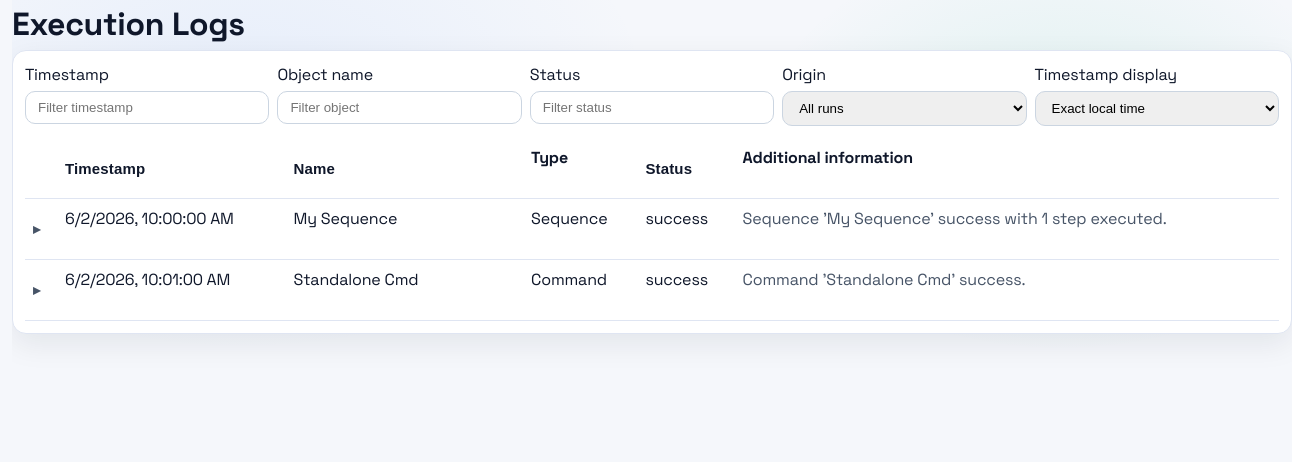
Test: ExecutionLogsPage grid › expands a command step to a second level only after the step is expanded
expect the text "My Sequence" is shown: met, box [286,199,523,260]
Click the button named "Expand sub-elements".
click(37, 229)  # box [33,207,40,251]
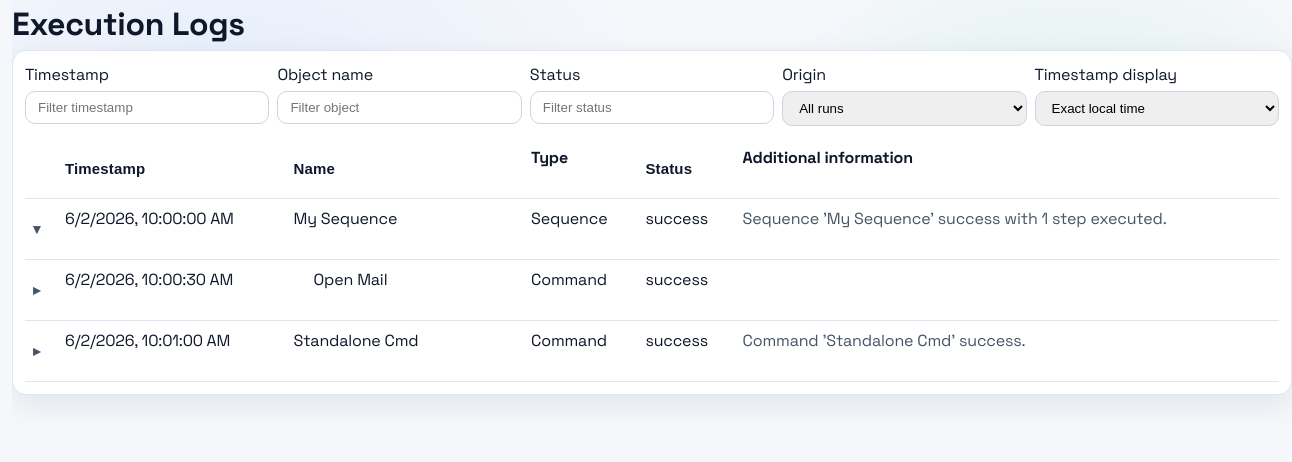
expect the text "Tap target" is not shown: met
expect the text "Open Mail" is shown: met, box [286,260,523,321]
Click the button named "Expand sub-elements".
click(37, 290)  # box [33,268,40,312]
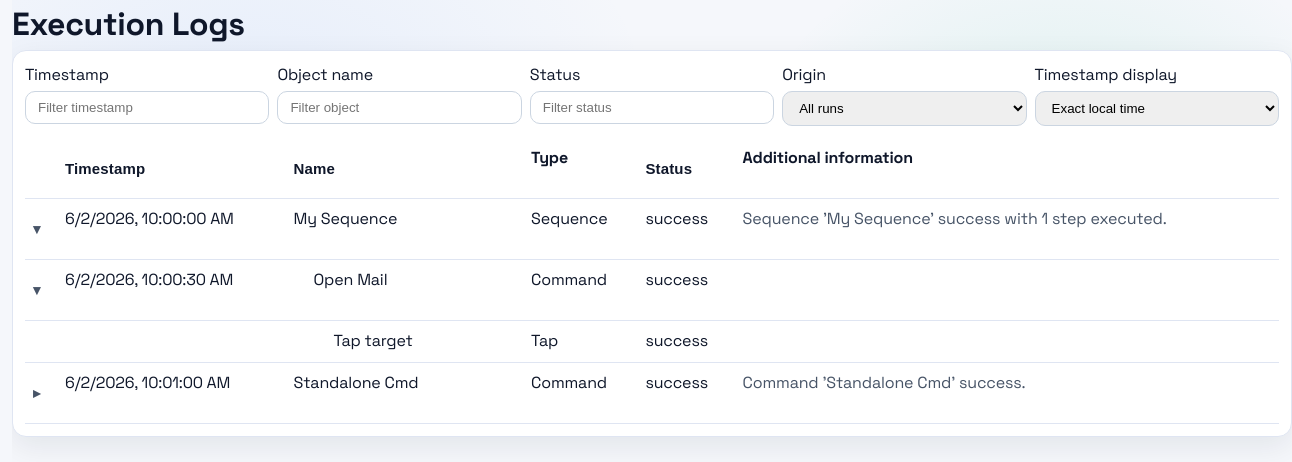
expect the text "Tap target" is shown: met, box [286,321,523,363]
